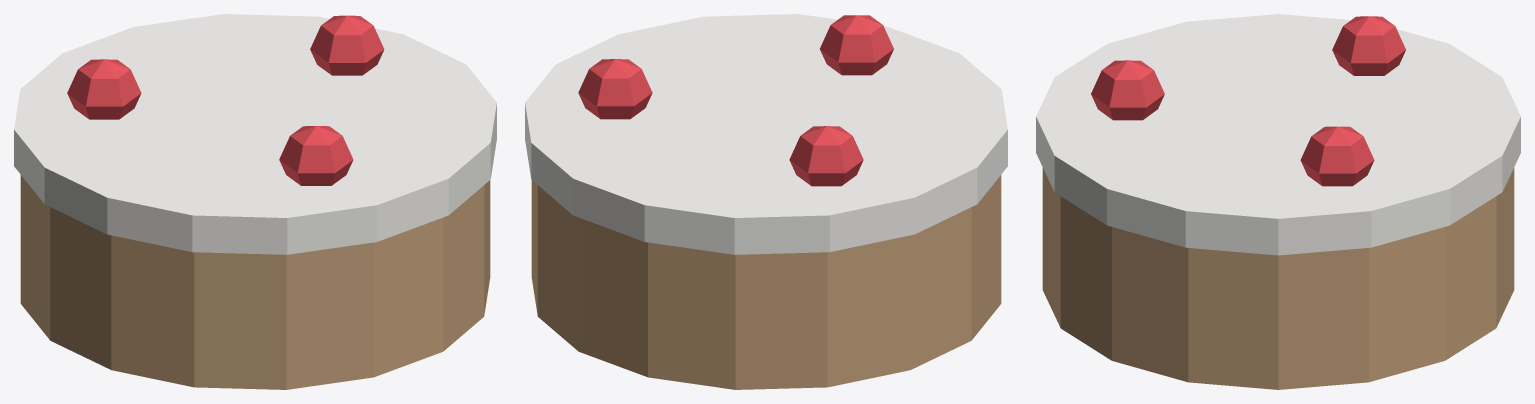
The model's file is cake_held.gltf.
3 renders of one model, left to right at view 1: azimuth 30°, elevation 25°; view 2: azimuth 150°, elevation 25°; view 3: azimuth 270°, elevation 25°, orthographic.
Visible parts, largest first — view 1: animals_cake_held; view 2: animals_cake_held; view 3: animals_cake_held.
Part boxes in pixels (left/top/right/bottom): animals_cake_held: left=14, top=14, right=496, bottom=389; animals_cake_held: left=525, top=14, right=1007, bottom=389; animals_cake_held: left=1036, top=14, right=1520, bottom=389.
Size of the model in its own units: 0.144 by 0.073 by 0.144.
